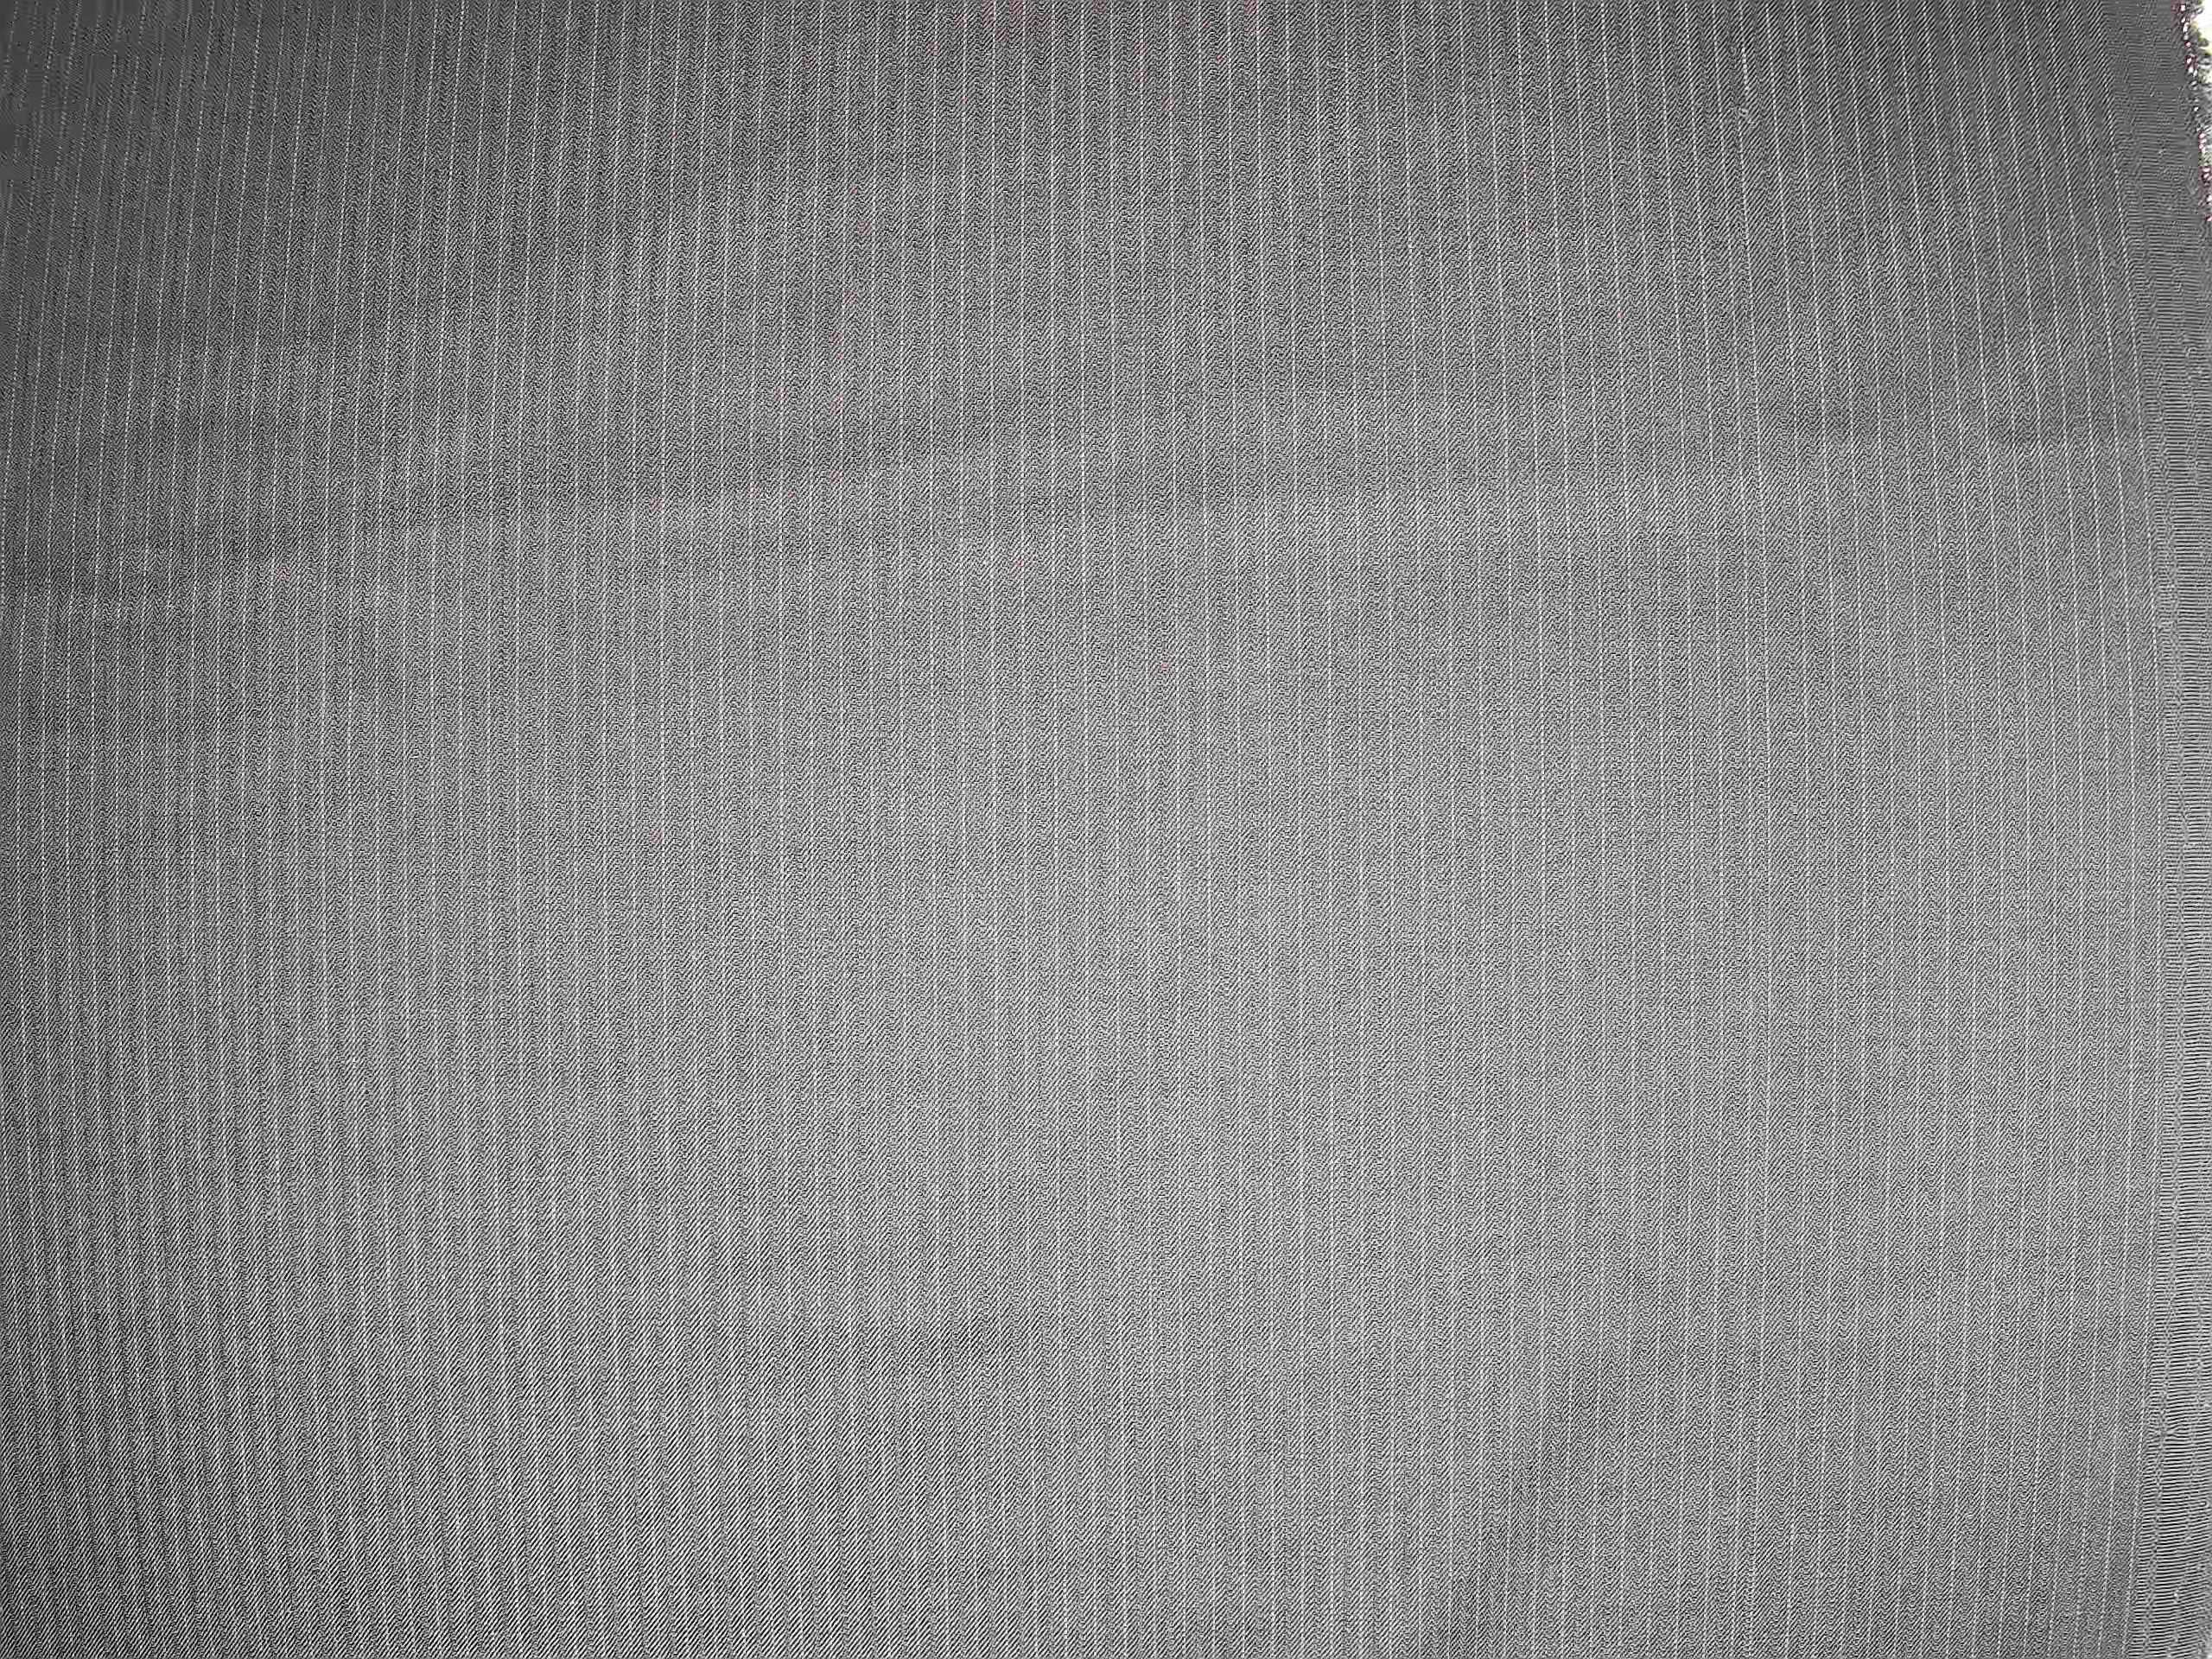others: (1719, 31, 1770, 148)
